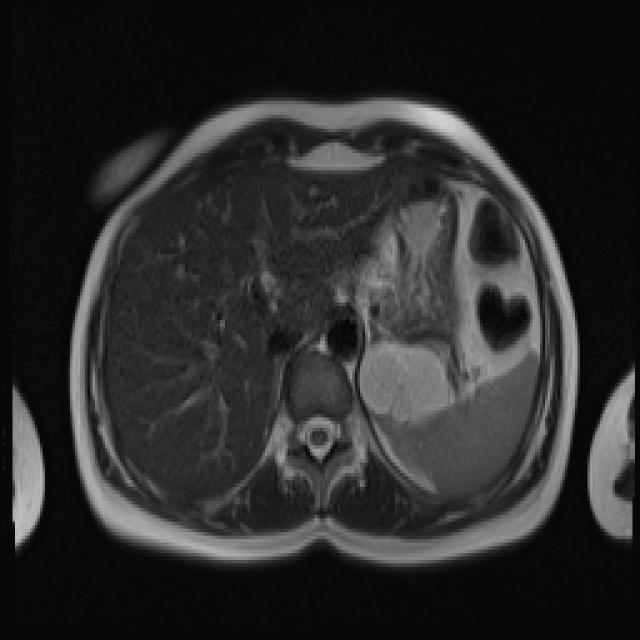sol: (360, 338, 464, 469)
